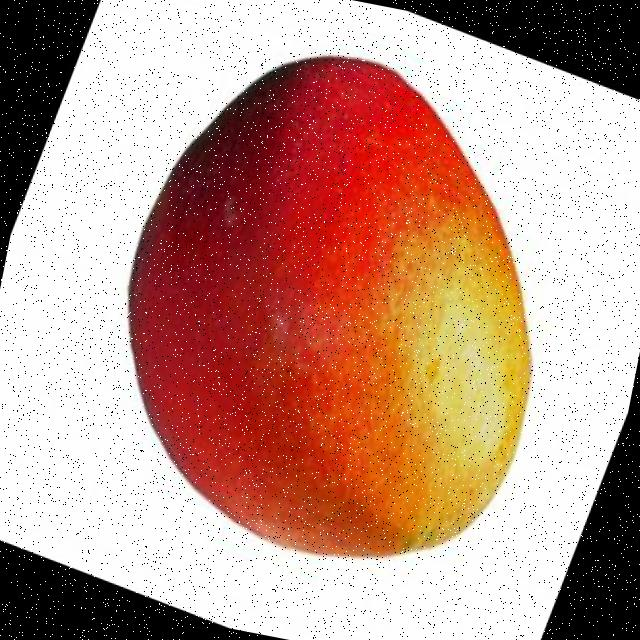mango: (129, 57, 532, 557)
